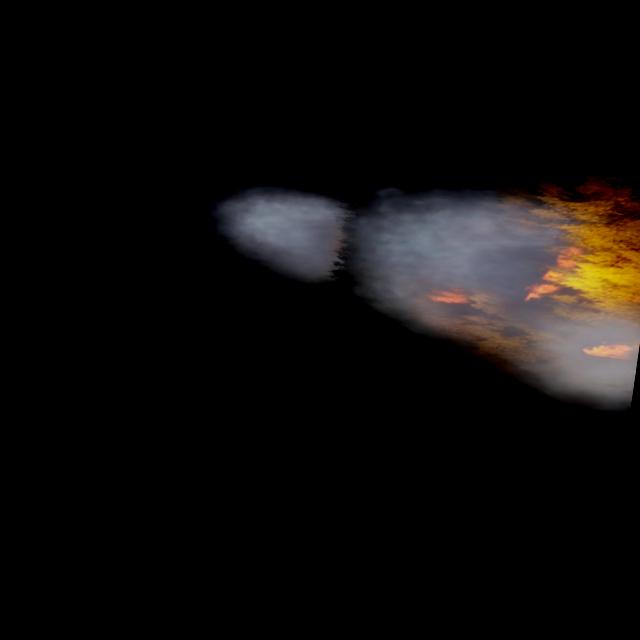fire: (520, 175, 640, 316), (578, 330, 640, 364), (423, 283, 469, 305)
smoke: (171, 135, 640, 419)
